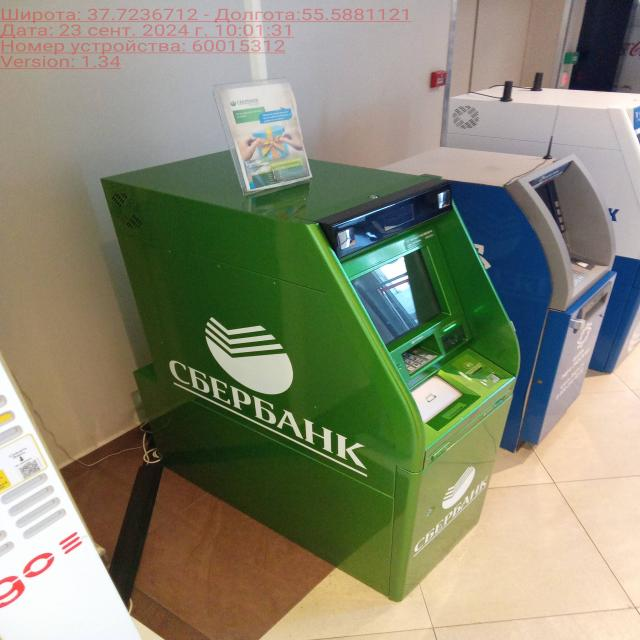bank: (98, 144, 521, 607)
